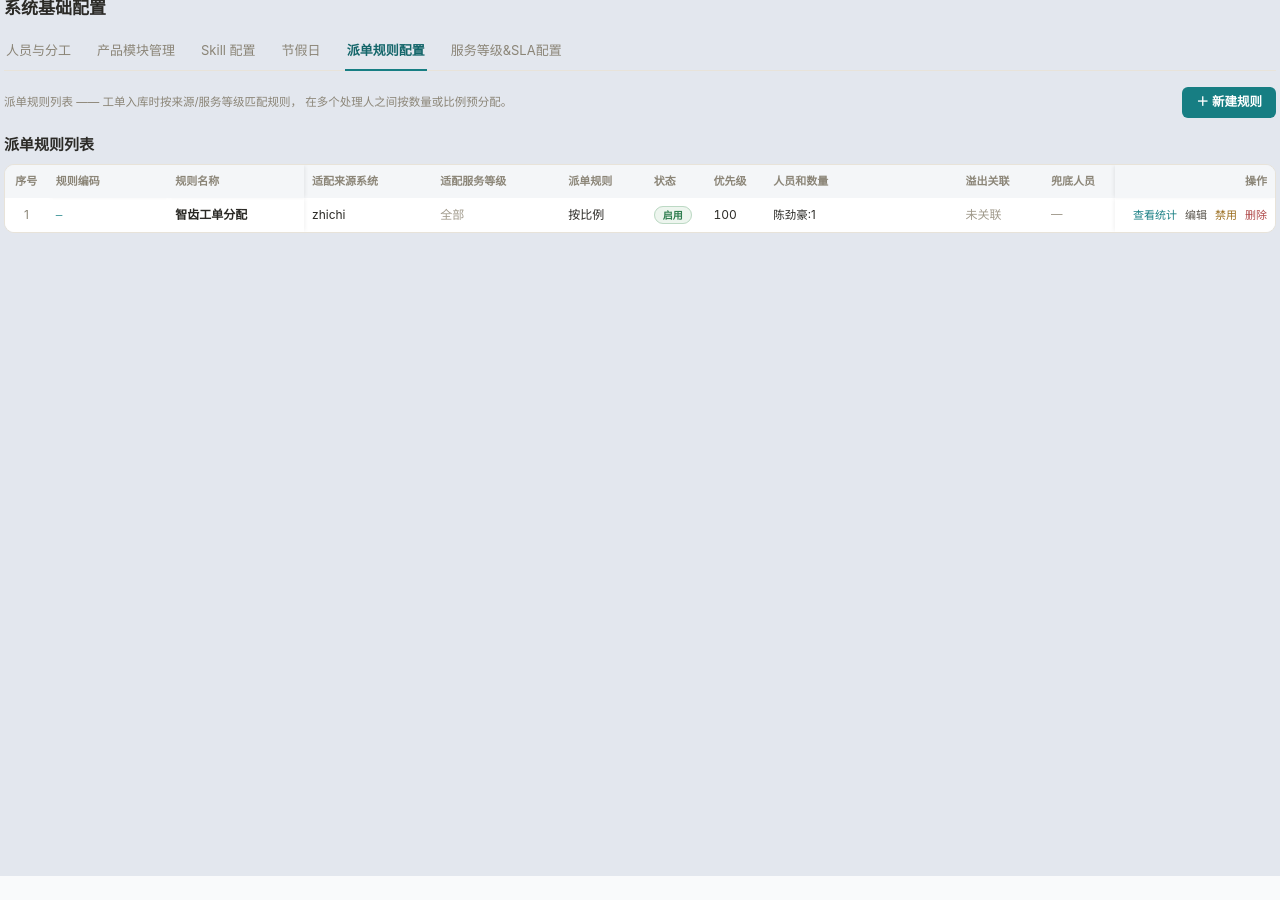
Scenario: DispatchRulesPage › 分派人行显示姓名而非裸 #id
Expected: the text "智齿工单分配" is shown, [167,198,304,232]
# 打开编辑弹窗（行内「编辑」按钮）
Click the button "编辑" at (1196, 215), box [1185,207,1207,223]
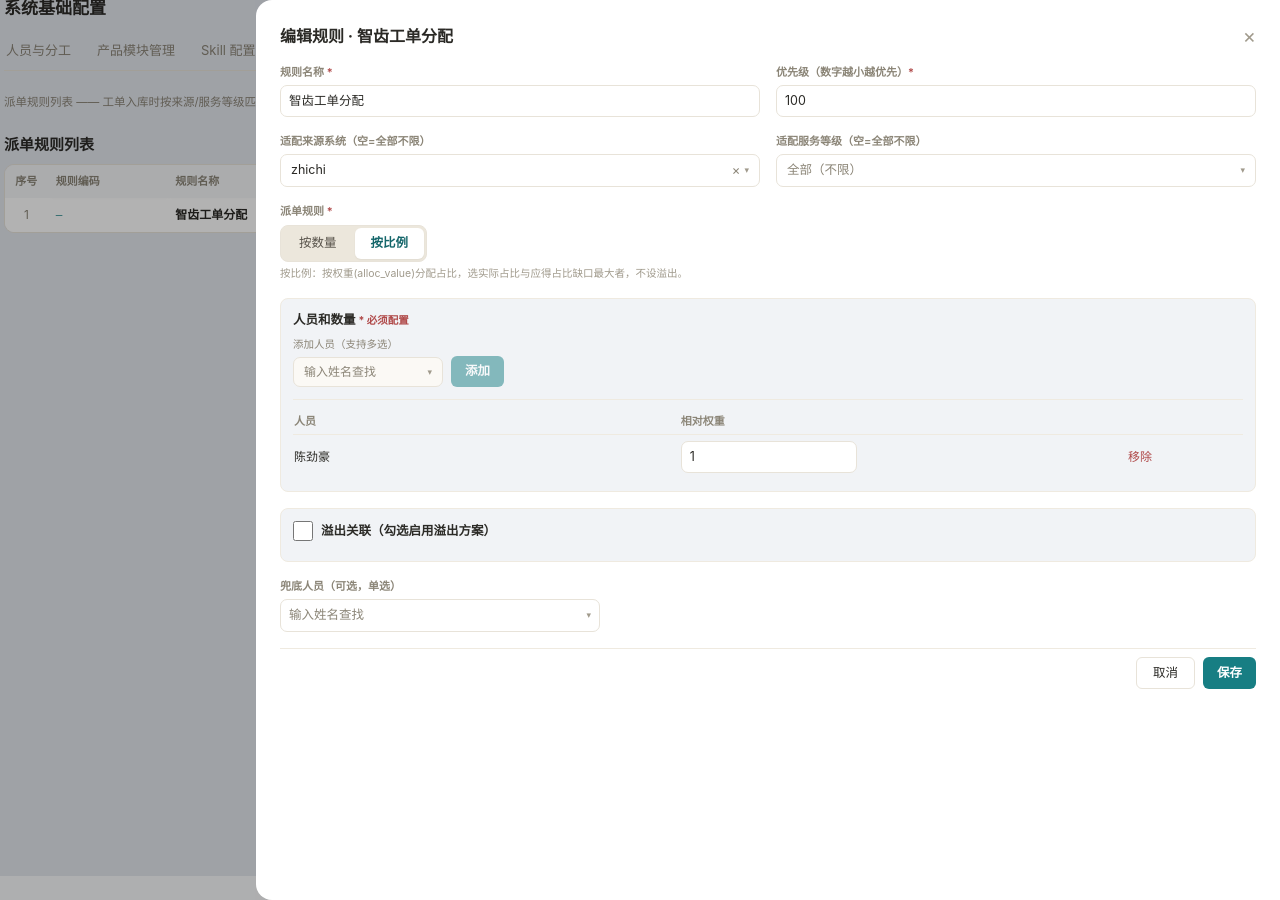
Expected: the text "陈劲豪" is shown, [293,434,680,479]
